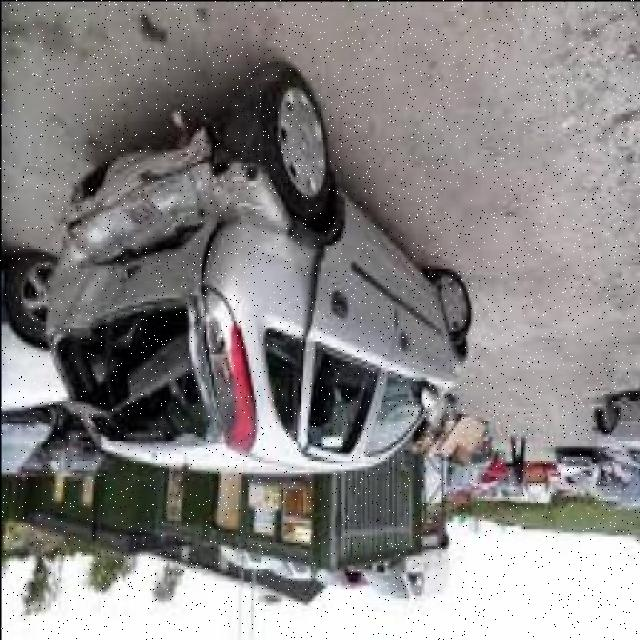damage: (44, 118, 293, 447)
